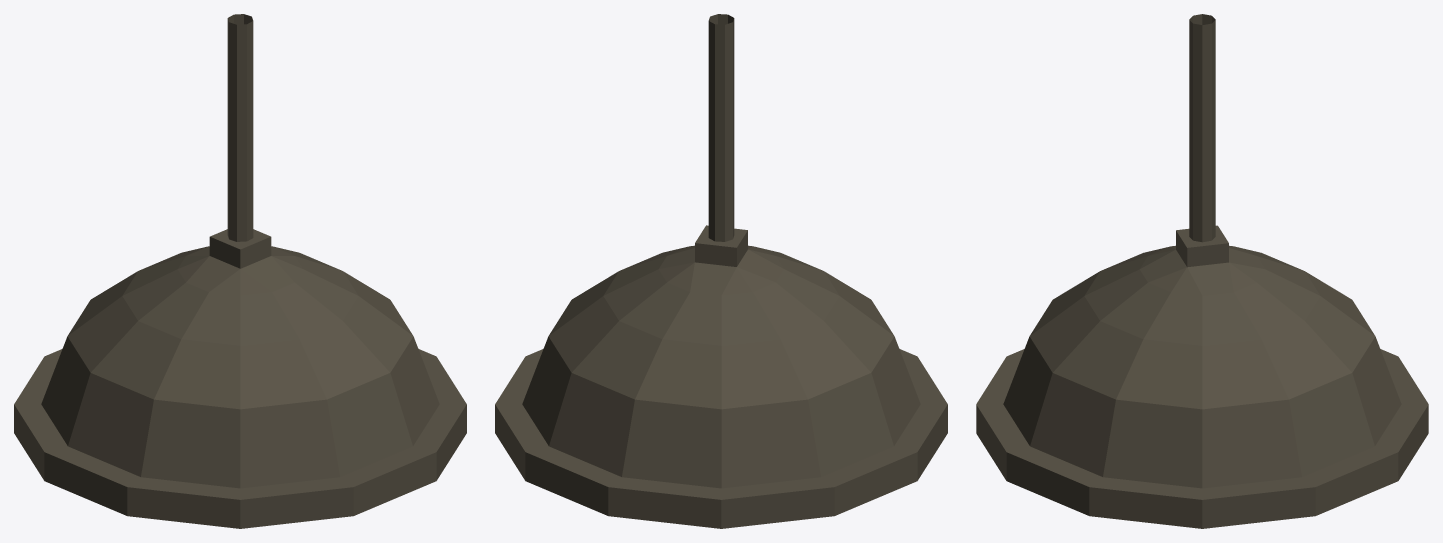
Rendered from SM_lamp_round_01.fbx.
3 renders of one model, left to right at view 1: azimuth 30°, elevation 25°; view 2: azimuth 150°, elevation 25°; view 3: azimuth 270°, elevation 25°, orthographic.
Parts seen in each view (by area): view 1: lamp_round_01; view 2: lamp_round_01; view 3: lamp_round_01.
Boxes of the visible parts, x1,y1,x2,y2 form: lamp_round_01: (14,14,466,528); lamp_round_01: (495,14,947,528); lamp_round_01: (976,14,1428,528).
Bounding box in the file's own units: 39.41 × 39.75 × 39.41.
